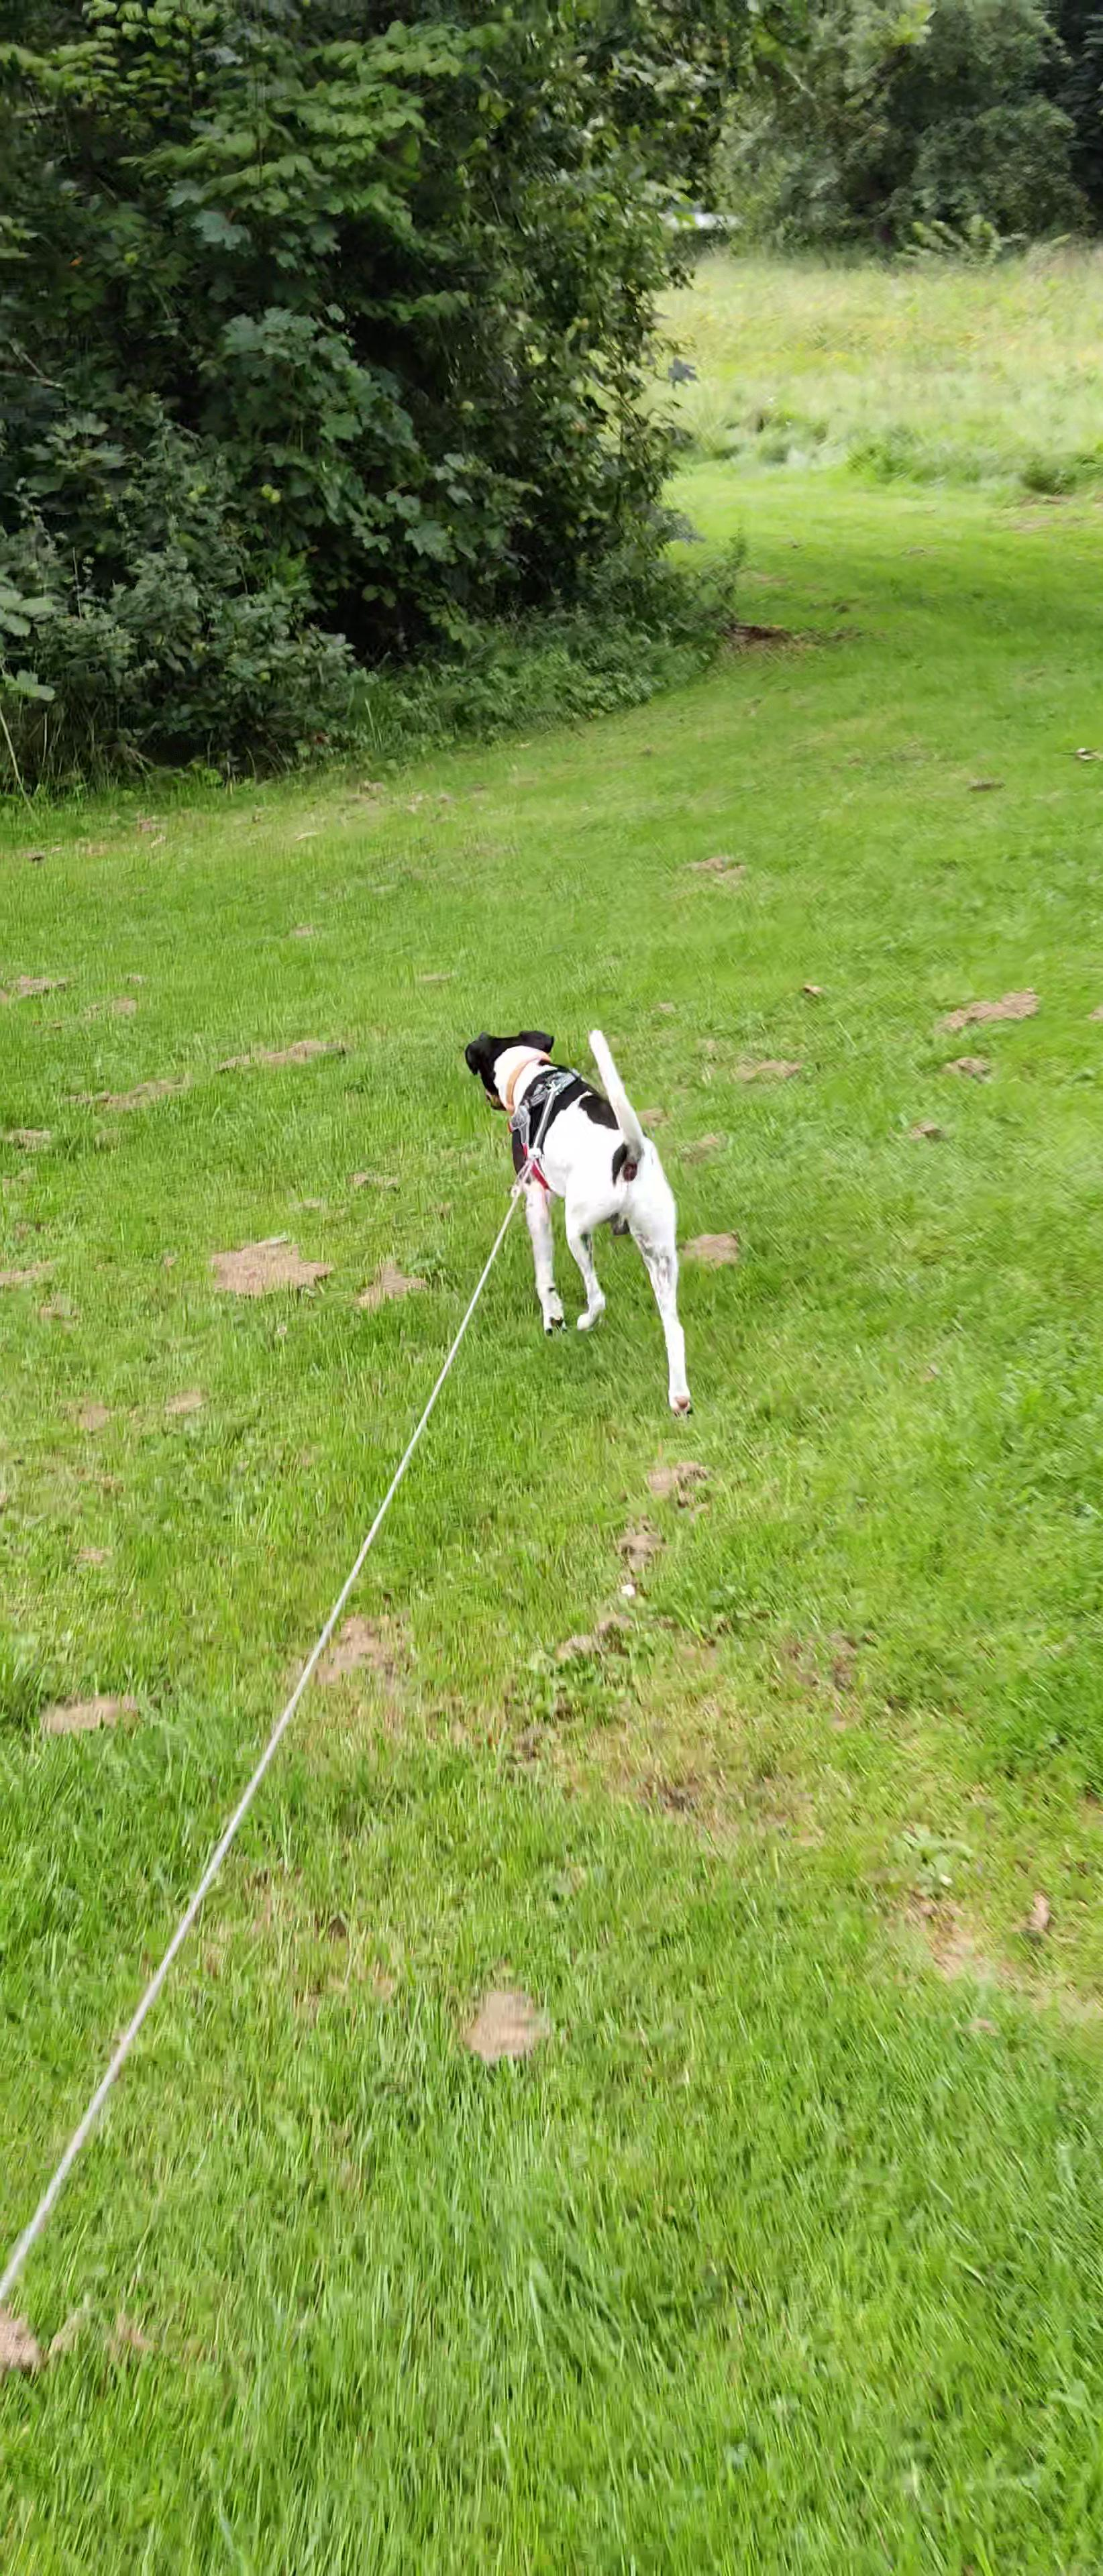Dog: (452, 984, 723, 1444)
